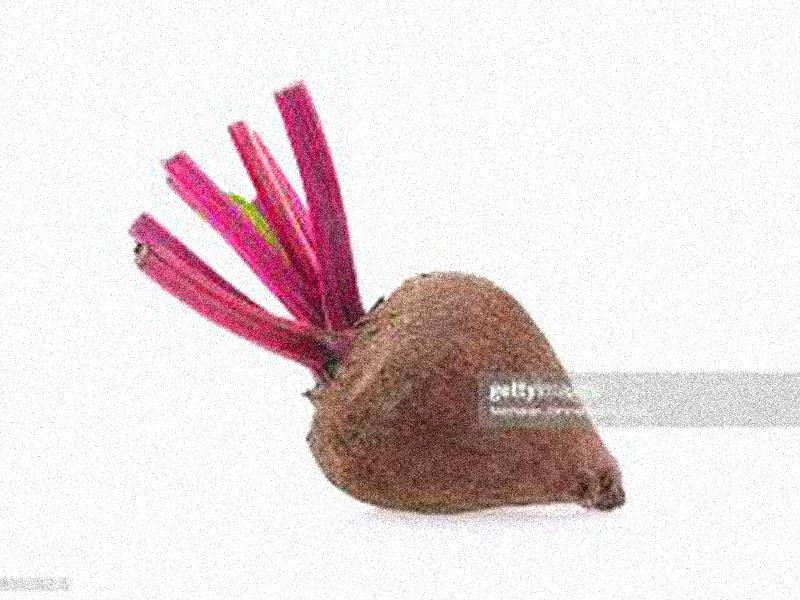Beet: (128, 82, 625, 512)
